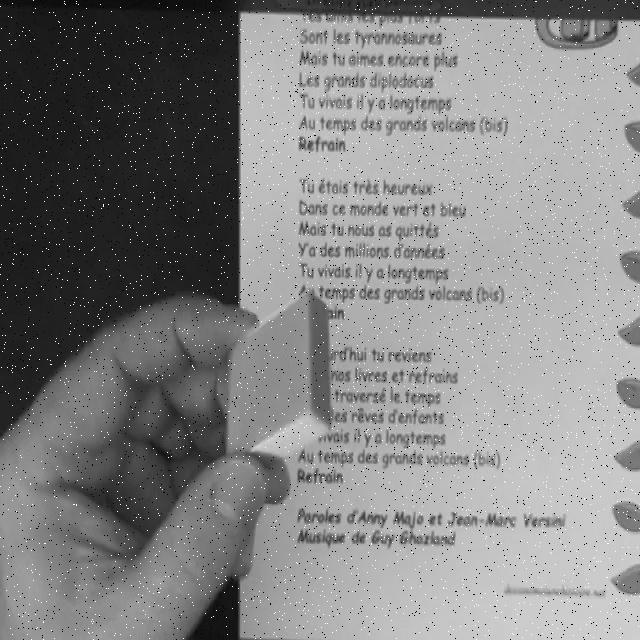square: (225, 292, 332, 470)
